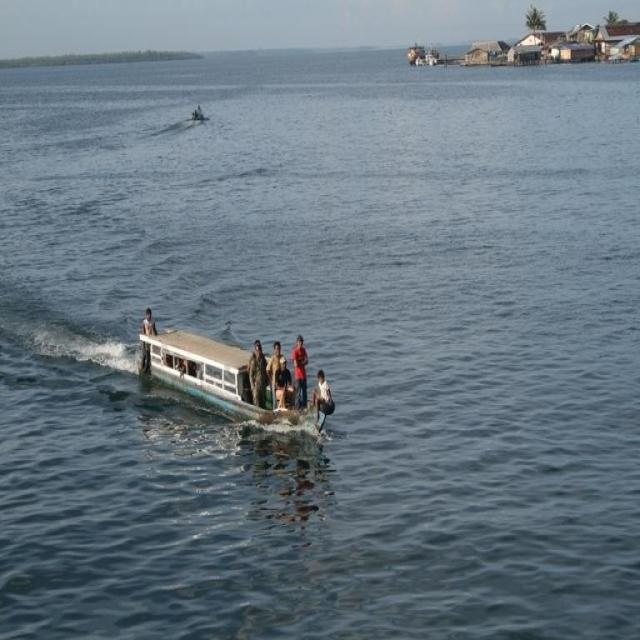boat: (135, 310, 338, 442), (189, 108, 209, 126)
